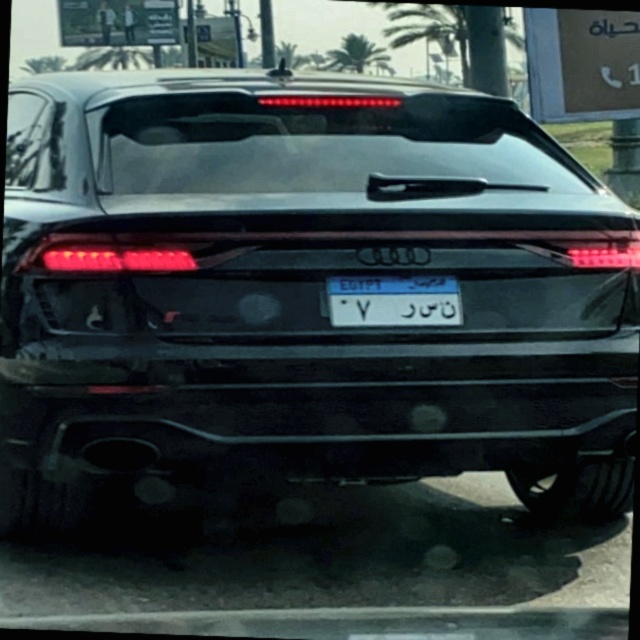License Plate: (327, 269, 465, 336)
